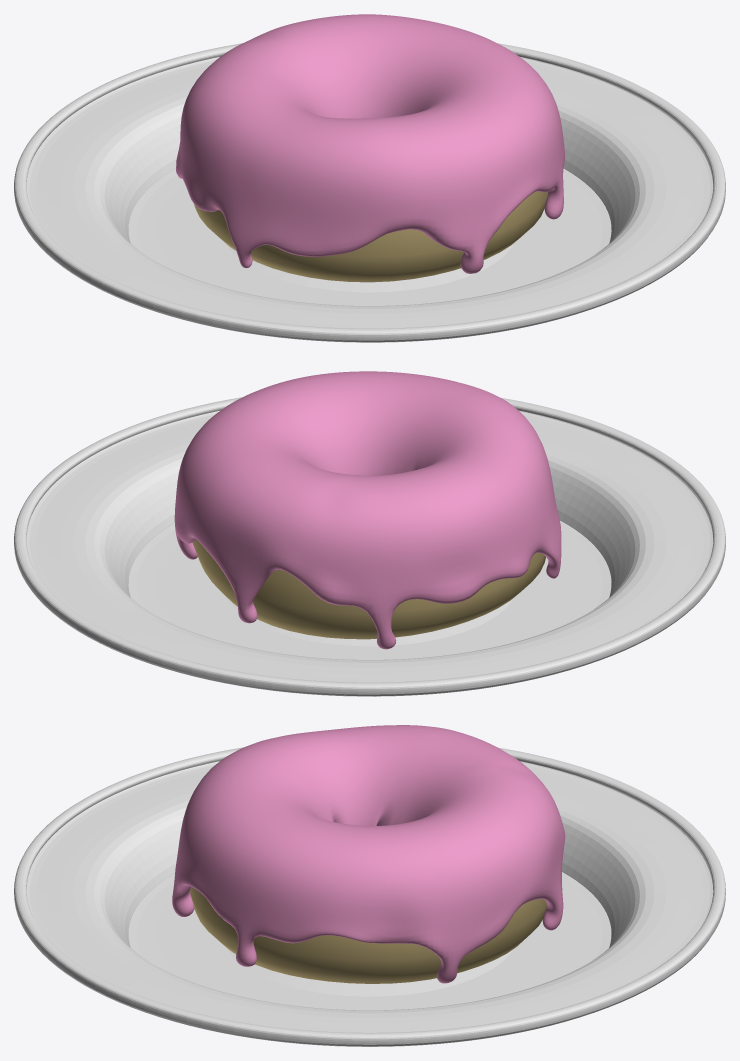
Rendered from Donut.fbx.
The picture shows the model from 3 angles, top to bottom: view 1: azimuth 30°, elevation 25°; view 2: azimuth 150°, elevation 25°; view 3: azimuth 270°, elevation 25°; orthographic projection.
Parts seen in each view (by area): view 1: plate, icing, donut; view 2: plate, icing, donut; view 3: plate, icing, donut.
Part boxes in pixels (x1,y1,x2,y2): plate: [14, 43, 725, 342]; icing: [176, 14, 565, 273]; donut: [194, 191, 547, 282]; plate: [14, 397, 725, 696]; icing: [174, 371, 561, 649]; donut: [192, 539, 545, 639]; plate: [14, 747, 725, 1046]; icing: [172, 725, 565, 983]; donut: [190, 886, 546, 983].
Bounding box in the file's own units: 54.7 × 13.88 × 54.7.
